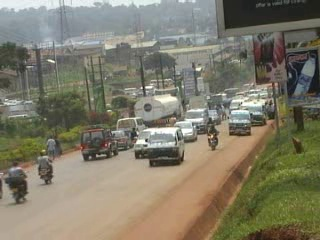Car: (78, 123, 120, 163), (132, 126, 160, 159), (172, 119, 199, 144), (109, 128, 133, 150), (206, 108, 222, 125)
Motorcycle: (3, 159, 30, 203), (35, 147, 56, 185), (205, 127, 220, 151), (205, 115, 215, 135), (129, 126, 139, 145)
